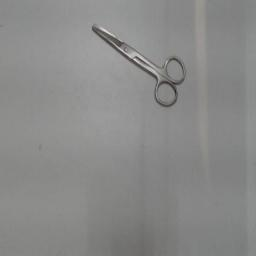Dressing Scissors: (84, 18, 192, 114)
